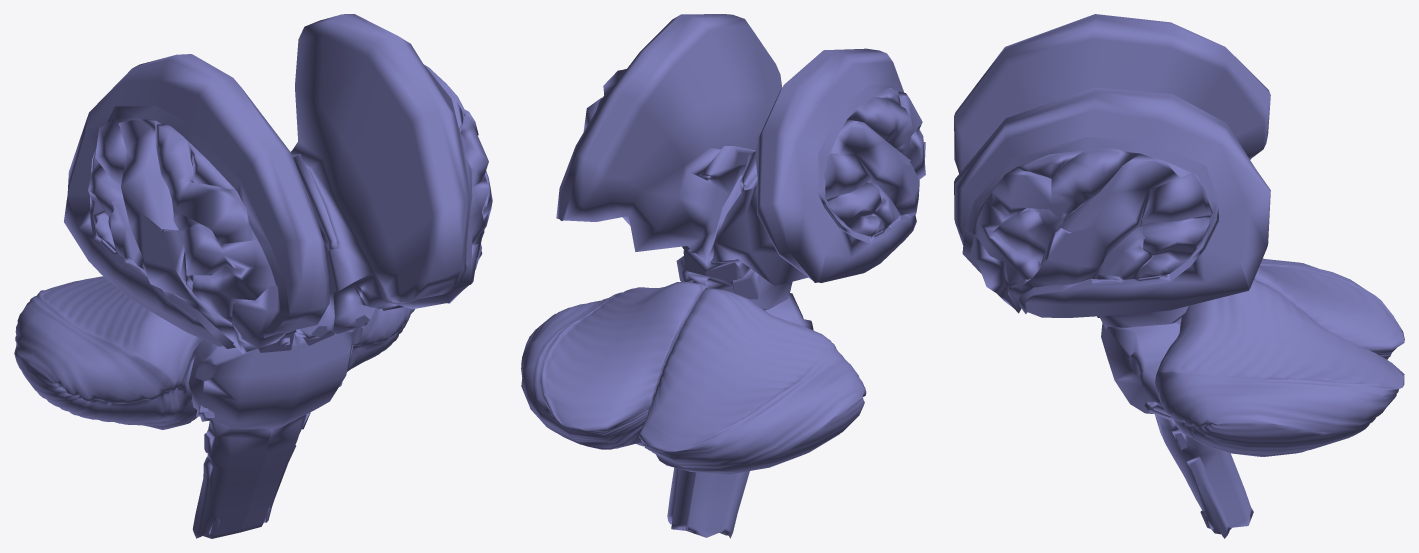
The model's file is Nervous_Full_Cerebellum_Trans.gltf.
The picture shows the model from 3 angles, left to right: view 1: azimuth 30°, elevation 25°; view 2: azimuth 150°, elevation 25°; view 3: azimuth 270°, elevation 25°; orthographic projection. The views are drawn at different scales.
Visible parts, largest first — view 1: Nervous_Brain_Stem, Nervous_Brain_Stem_1, Nervous_Full_Cerebellum_1, Nervous_Full_Cerebellum_2; view 2: Nervous_Brain_Stem, Nervous_Brain_Stem_1, Nervous_Full_Cerebellum_1, Nervous_Full_Cerebellum_2; view 3: Nervous_Brain_Stem_1, Nervous_Full_Cerebellum_2, Nervous_Brain_Stem, Nervous_Full_Cerebellum_1.
Part boxes in pixels (x1,y1,x2,y2): Nervous_Brain_Stem: (64, 54, 334, 538); Nervous_Brain_Stem_1: (239, 14, 492, 532); Nervous_Full_Cerebellum_1: (14, 276, 203, 429); Nervous_Full_Cerebellum_2: (347, 307, 414, 371); Nervous_Brain_Stem: (685, 48, 925, 538); Nervous_Brain_Stem_1: (556, 14, 782, 530); Nervous_Full_Cerebellum_1: (639, 287, 866, 474); Nervous_Full_Cerebellum_2: (521, 282, 708, 449); Nervous_Brain_Stem_1: (954, 87, 1270, 538); Nervous_Full_Cerebellum_2: (1154, 278, 1404, 456); Nervous_Brain_Stem: (954, 14, 1270, 512); Nervous_Full_Cerebellum_1: (1254, 258, 1404, 359).
Size of the model in its own units: 8.89 by 12.2 by 10.63.
